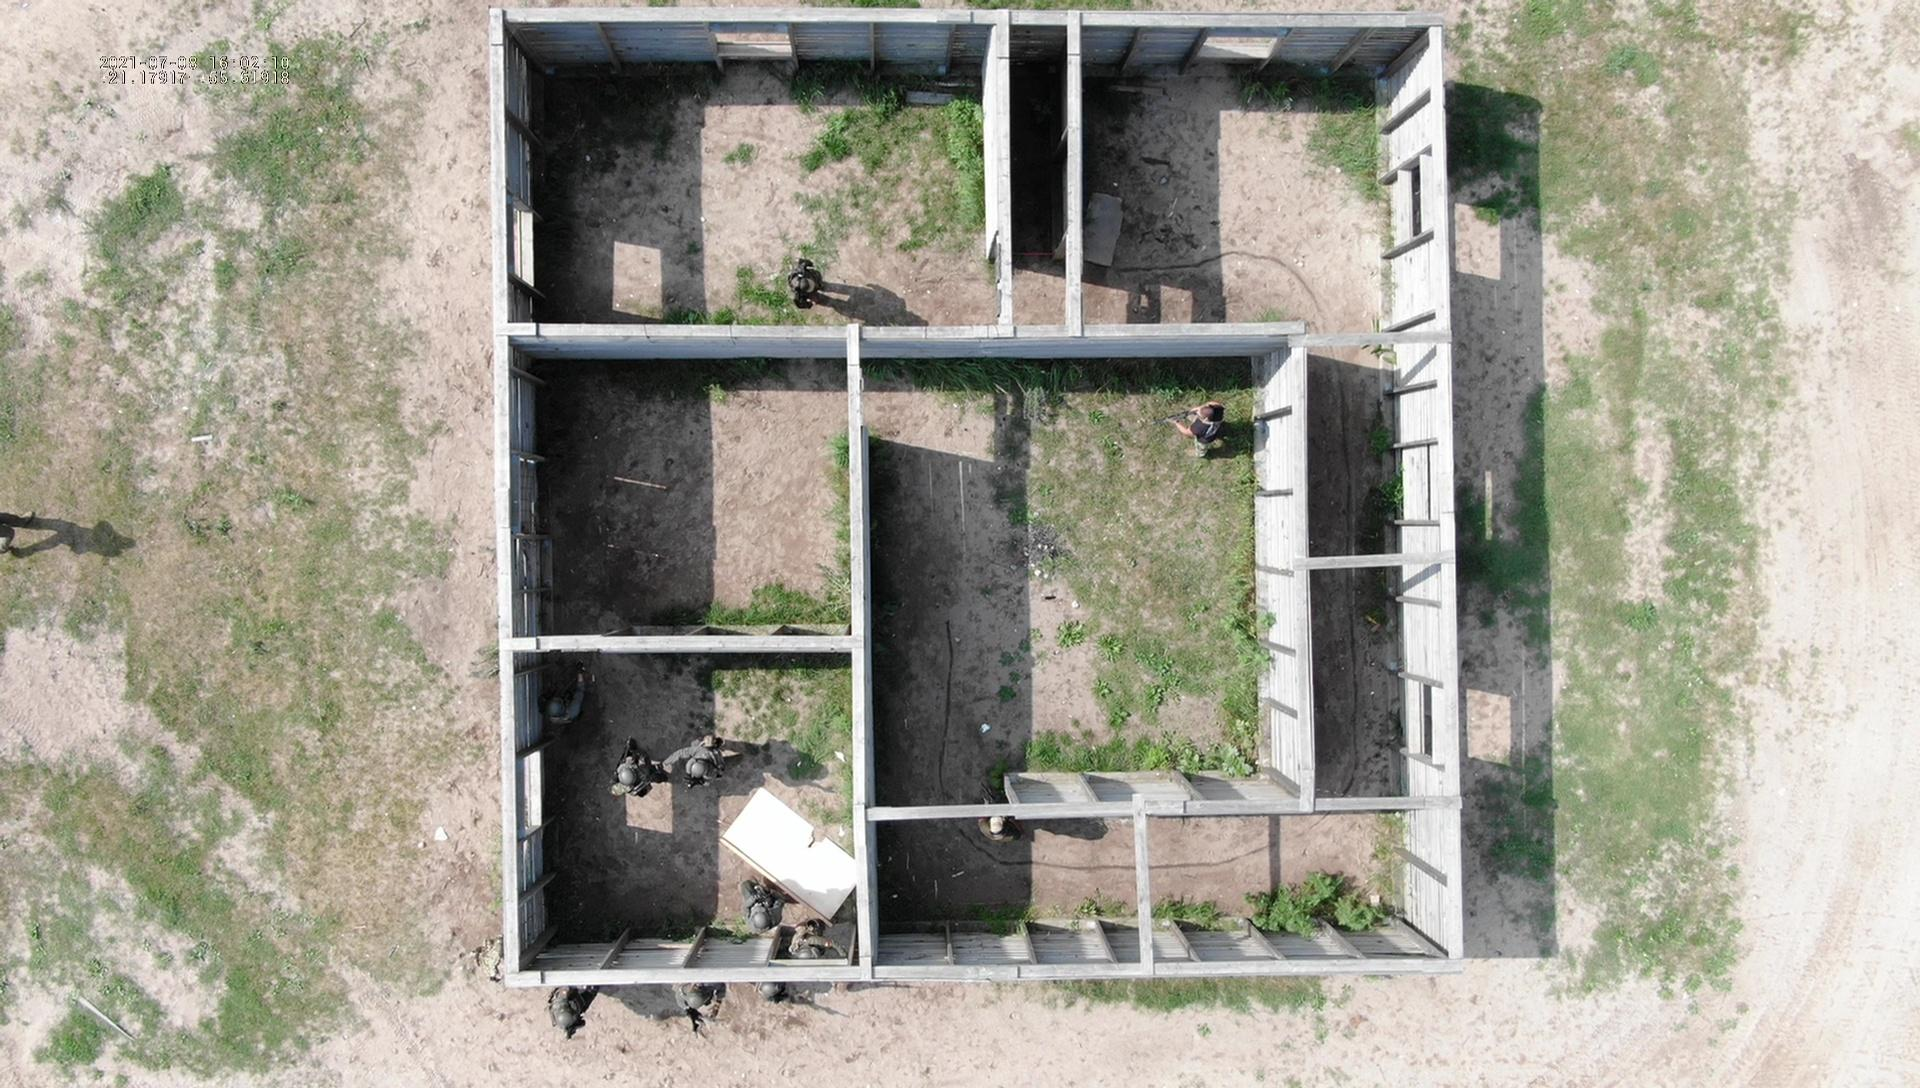Soldier: (663, 716, 753, 797), (535, 655, 597, 757), (603, 735, 682, 808), (778, 244, 847, 324), (737, 866, 803, 938), (1170, 396, 1240, 459), (535, 986, 596, 1038), (667, 984, 727, 1035), (975, 811, 1033, 859)
